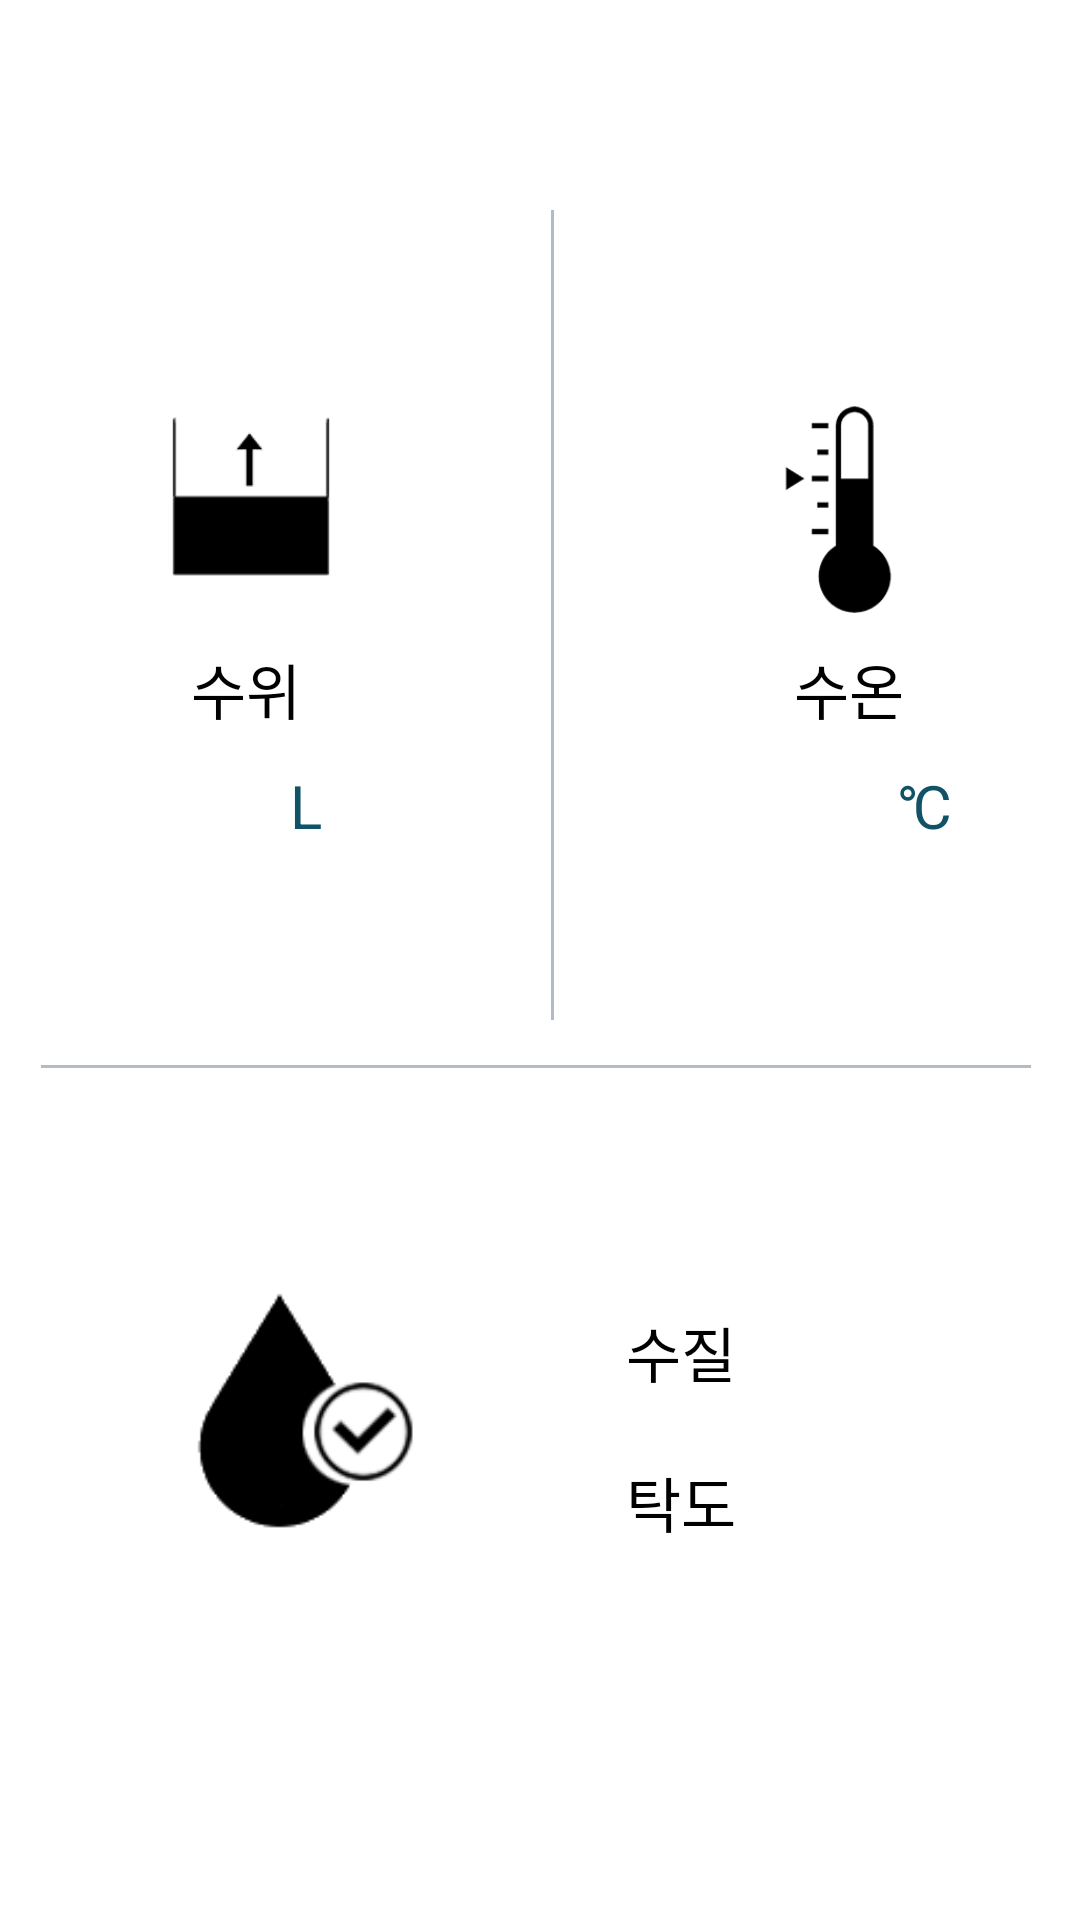

Screen size 1080×1920. Icon name, then its box in pixels as (x1, y1, x2, y2):
level: (172, 417, 330, 576)
quality: (198, 1294, 413, 1528)
temperature: (785, 406, 892, 613)
